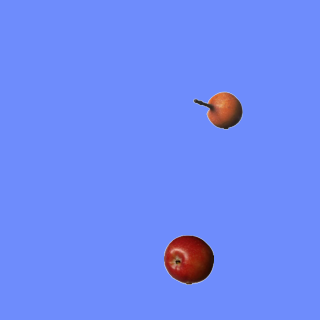Apple Braeburn: (163, 234, 213, 284)
Granadilla: (192, 85, 242, 135)
